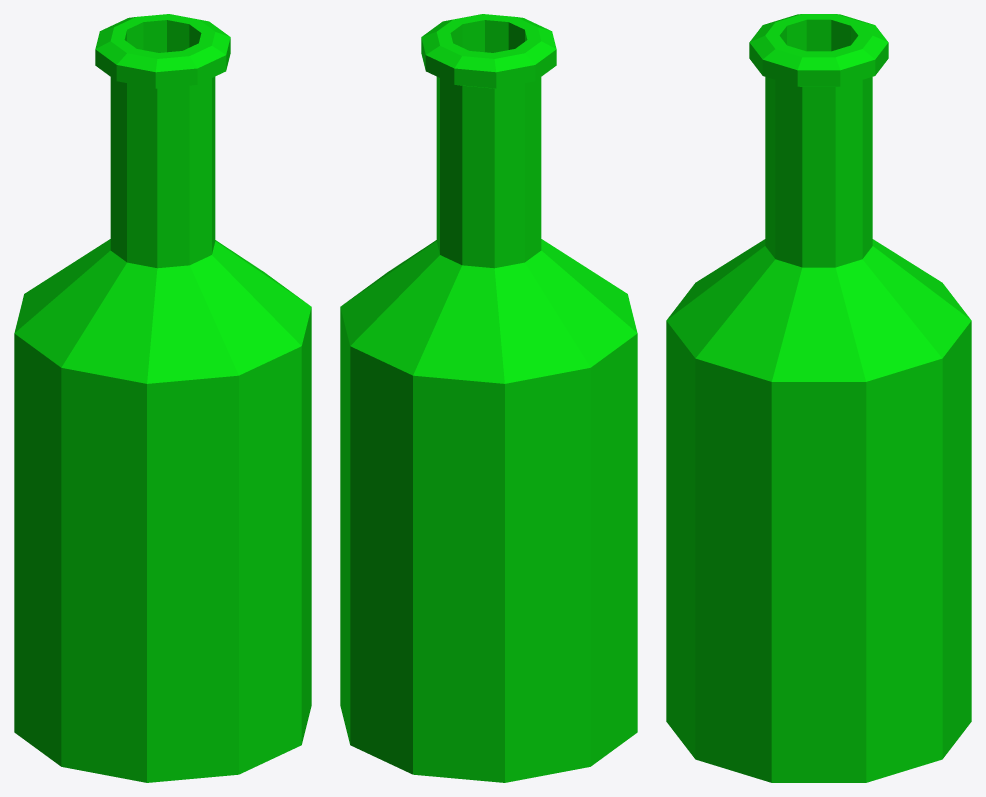
Rendered from botella.fbx.
3 views of the same model, side by side, from view 1: azimuth 30°, elevation 25°; view 2: azimuth 150°, elevation 25°; view 3: azimuth 270°, elevation 25° (orthographic).
Parts seen in each view (by area): view 1: Cylinder; view 2: Cylinder; view 3: Cylinder.
Part boxes in pixels (x1,y1,x2,y2): Cylinder: (14, 14, 311, 782); Cylinder: (340, 14, 637, 782); Cylinder: (666, 14, 971, 782).
Size of the model in its own units: 190 by 496 by 200.
